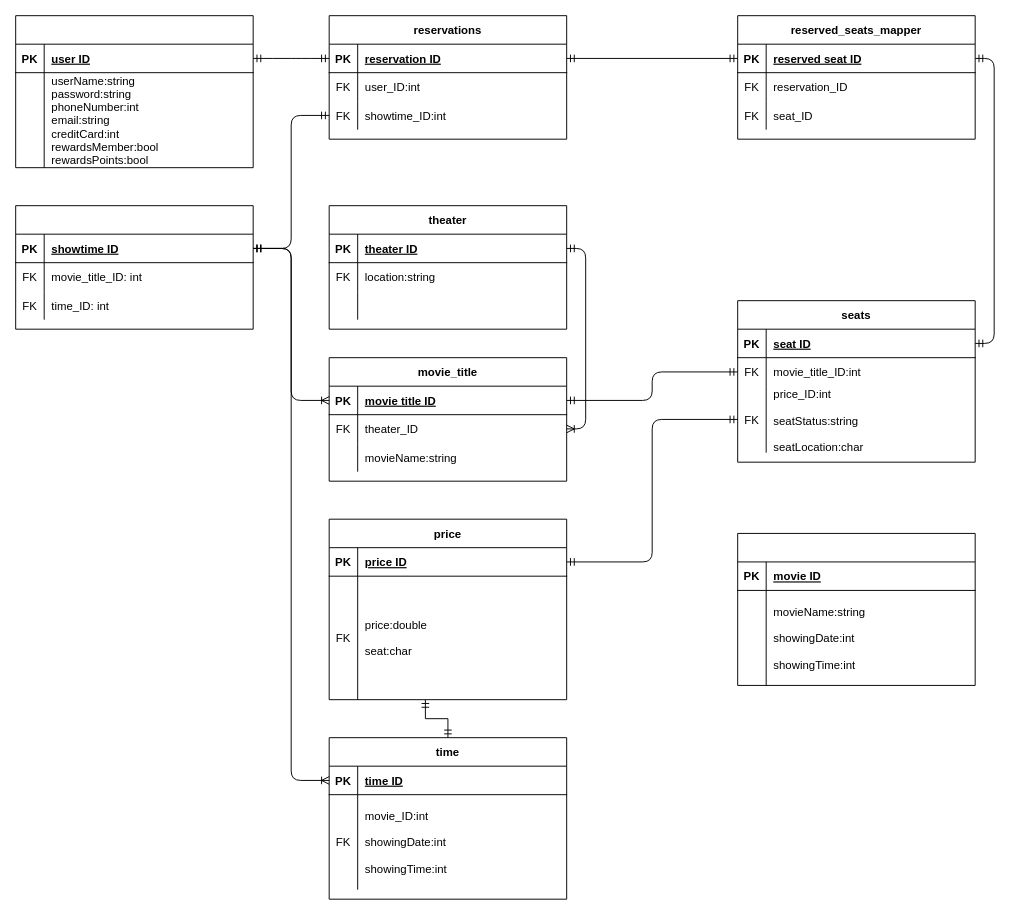
This 1010x915 diagram has some shape labels left out. The box of each missing label's shape, as (x1, y1, x2, y2) in pixels:
movies: (737, 532, 975, 685)
showtime_mapper: (15, 205, 253, 329)
users: (15, 15, 253, 168)
